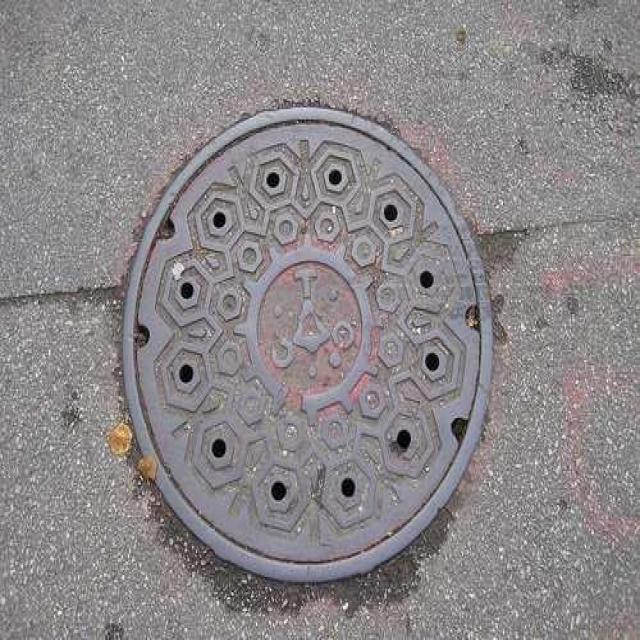manhole: (124, 110, 490, 581)
